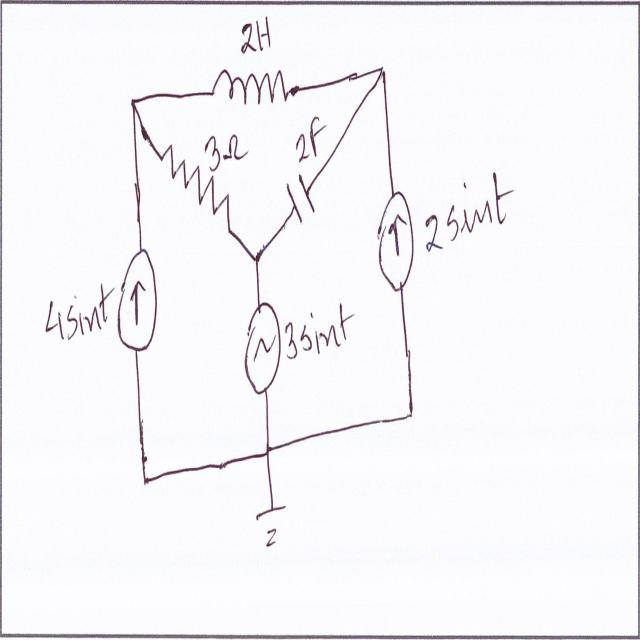ac_current: (243, 299, 280, 401)
capacitor: (274, 156, 322, 238)
current_source: (116, 246, 161, 358), (376, 188, 415, 293)
ground: (252, 498, 290, 559)
inductor: (210, 59, 297, 114)
resistor: (158, 134, 233, 249)
